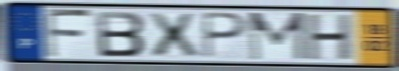B: (94, 10, 147, 59)
F: (43, 6, 95, 60)
H: (306, 13, 354, 63)
M: (247, 11, 309, 62)
P: (200, 11, 250, 61)
X: (144, 11, 203, 59)
